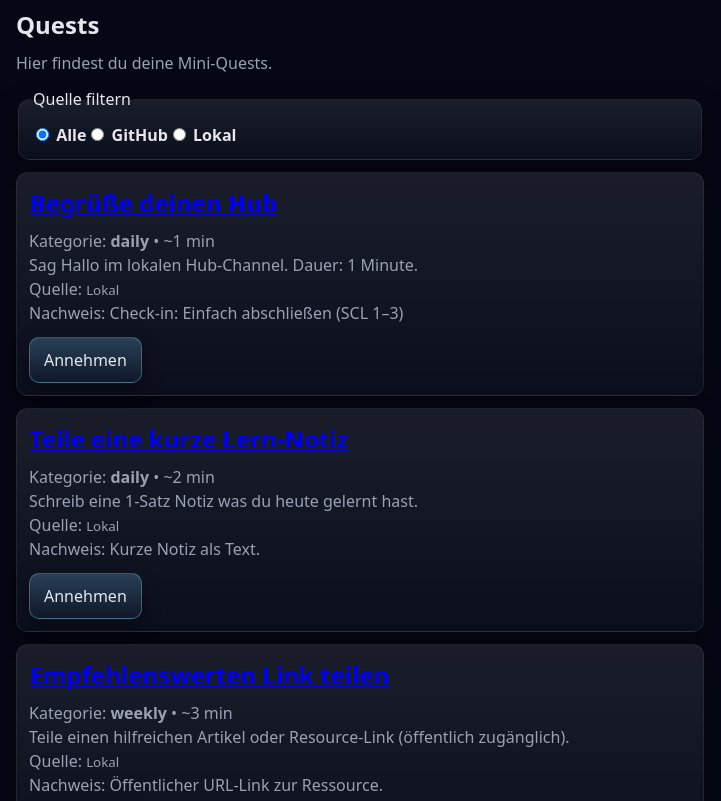
Test: quest detail shows effort and category
This screenshot has width=721, height=801.
Click the link "Begrüße deinen Hub" at (153, 202), box 29,186 -> 277,219
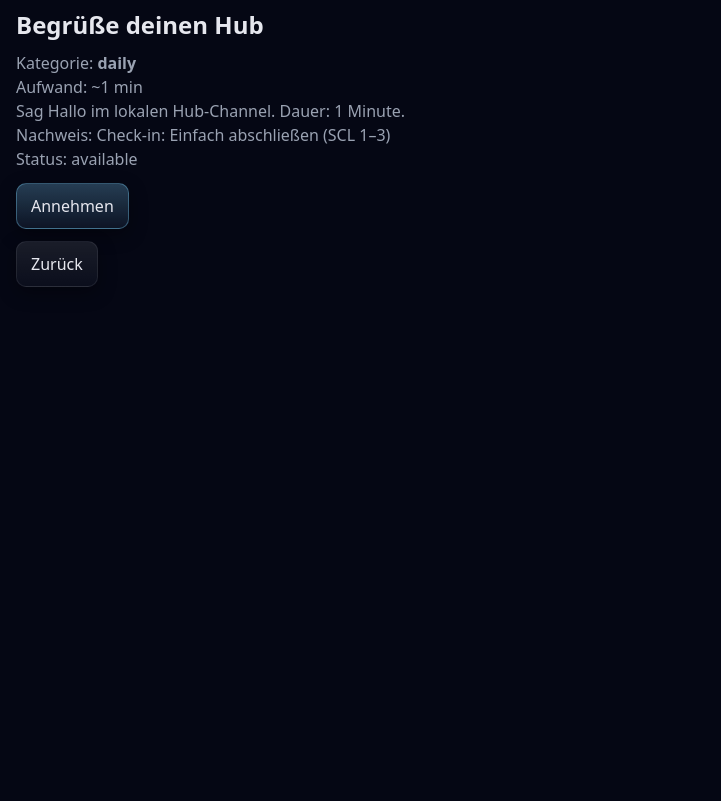
Now the text "Aufwand: ~1 min" is shown, box 16,76 -> 143,98
